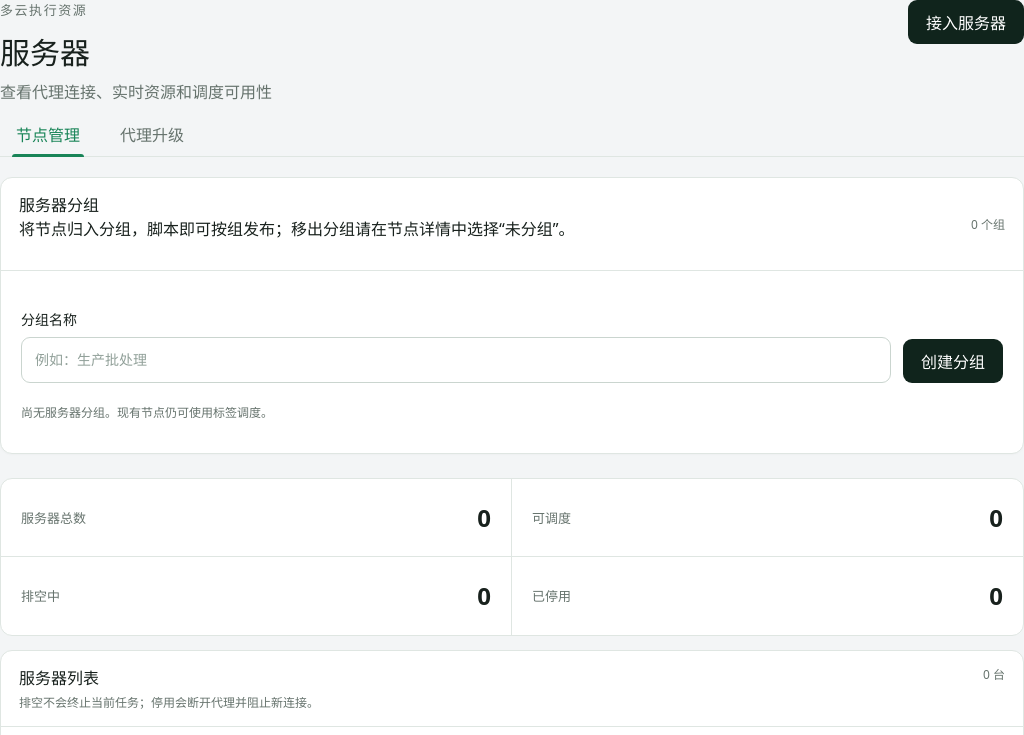
Test: 服务器管理 › 拒绝不完整的代理发布清单且不泄露内部异常
This screenshot has width=1024, height=735.
Click the button "接入服务器" at (966,22), box [908,0,1023,44]
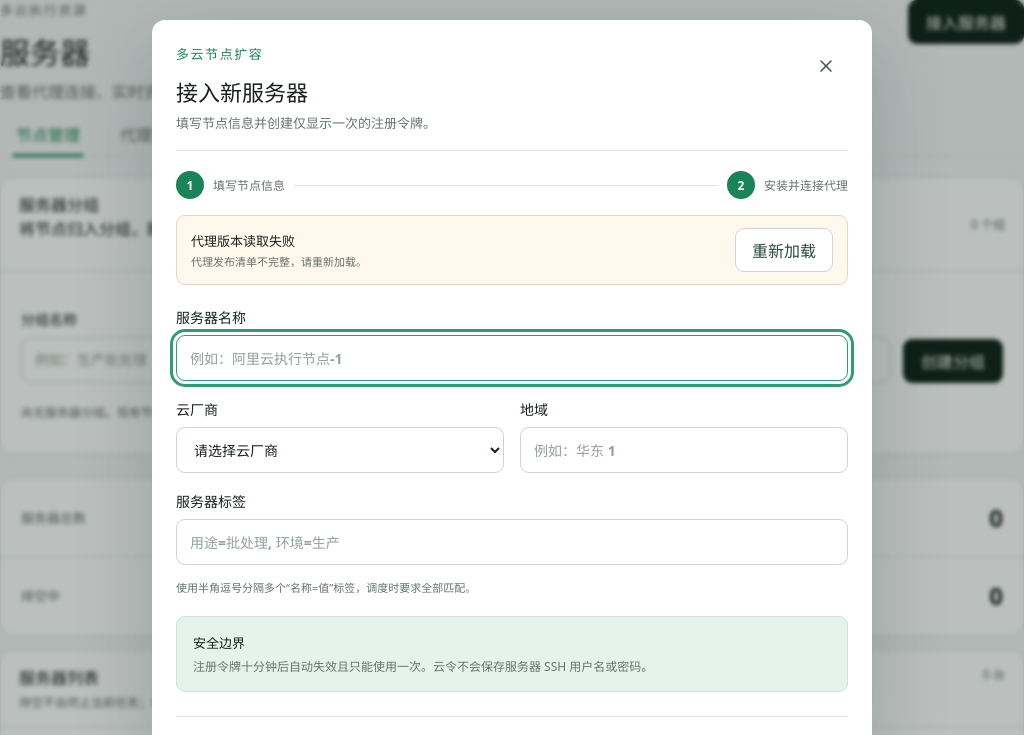
Expected: the message does not show "[object Object]", [176,215,848,285]
Expected: the message shows "代理发布清单不完整，请重新加载。", [191,254,367,269]
